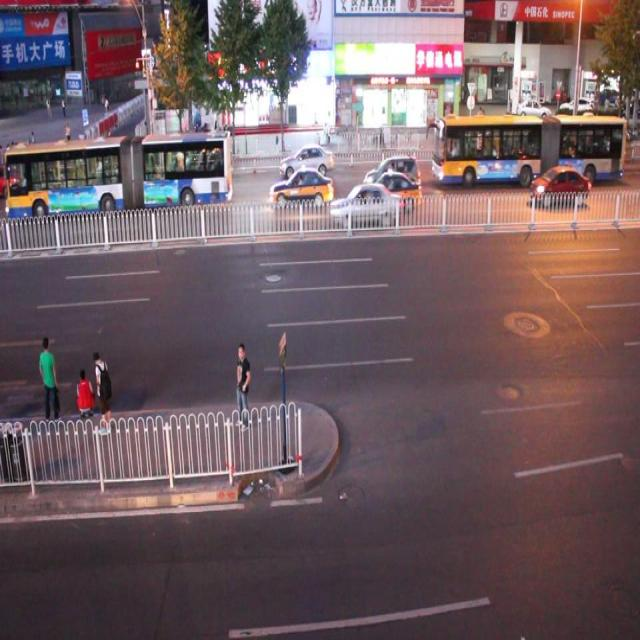car: (329, 182, 402, 226), (269, 168, 332, 208), (530, 164, 588, 206), (365, 153, 420, 194), (361, 173, 420, 209), (280, 143, 333, 176), (18, 170, 62, 202), (190, 145, 229, 181), (1, 163, 21, 198)
van: (1, 136, 232, 217), (432, 111, 624, 186)
